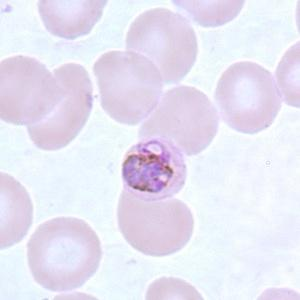Infected: (121, 137, 187, 197)
Uninfected: (23, 63, 93, 150), (26, 216, 102, 291), (127, 8, 198, 85), (139, 86, 217, 156), (93, 50, 162, 127), (117, 191, 194, 256), (213, 60, 281, 132), (0, 53, 65, 124)
